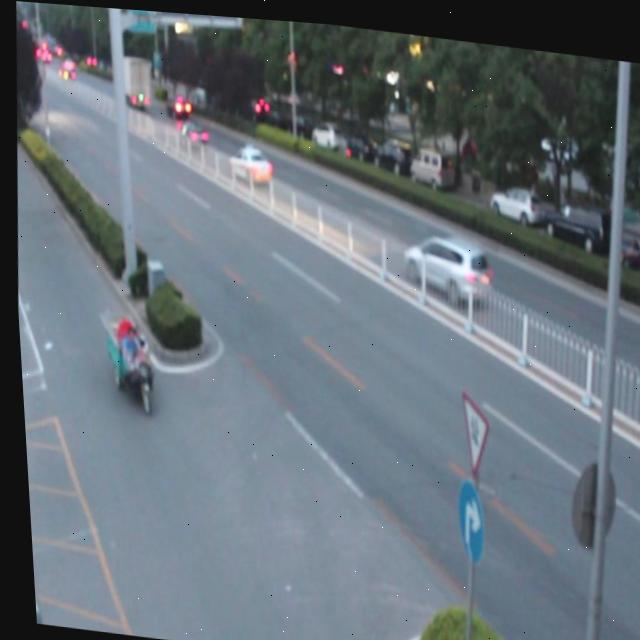car: (398, 223, 491, 301), (226, 138, 273, 186)
